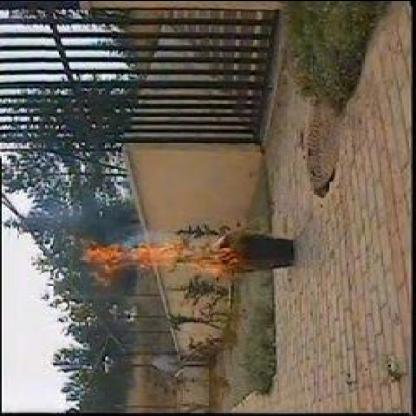foggia-v2-map80-epoch100 - v1 4323: (91, 242, 231, 272)
